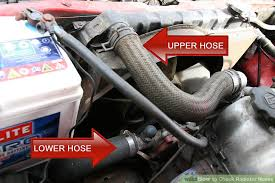radiator_hose: (109, 24, 244, 116), (55, 130, 133, 176)
